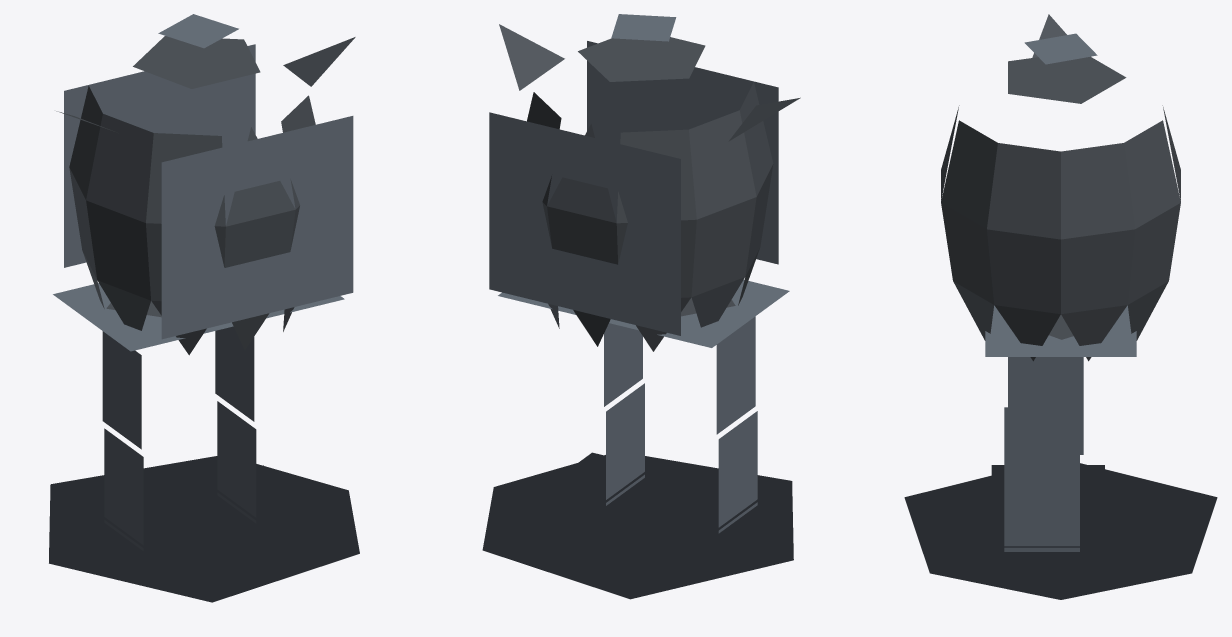
File: assault-armor.lod.glb
3 views of the same model, side by side, from view 1: azimuth 30°, elevation 25°; view 2: azimuth 150°, elevation 25°; view 3: azimuth 270°, elevation 25° (orthographic). The views are drawn at different scales.
Visible parts, largest first — view 1: m; view 2: m; view 3: m.
Part boxes in pixels (bbox=[...]): m: bbox=[49, 14, 359, 602]; m: bbox=[482, 14, 800, 599]; m: bbox=[904, 14, 1217, 599].
Size of the model in its own units: 0.3318 by 0.4248 by 0.2398.
